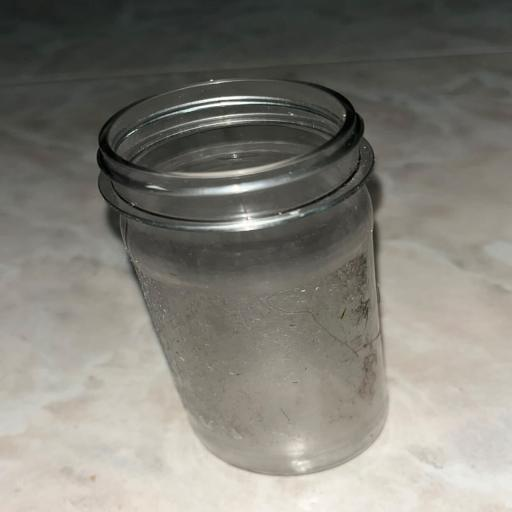PET: (42, 75, 472, 476)
